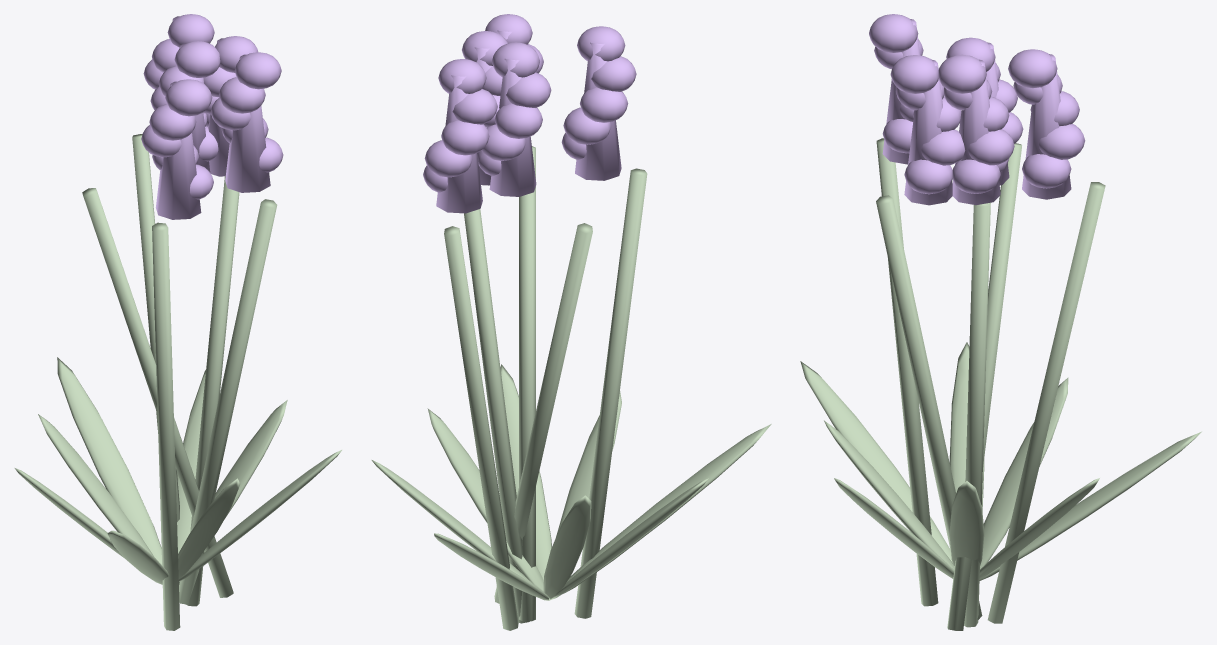
File: VCrop_Lavender_4.fbx
3 views of the same model, side by side, from view 1: azimuth 30°, elevation 25°; view 2: azimuth 150°, elevation 25°; view 3: azimuth 270°, elevation 25° (orthographic). The views are drawn at different scales.
Visible parts, largest first — view 1: VCrop_Lavender_4; view 2: VCrop_Lavender_4; view 3: VCrop_Lavender_4.
Part boxes in pixels (<box>): VCrop_Lavender_4: <box>14,14,341,630</box>; VCrop_Lavender_4: <box>371,14,771,630</box>; VCrop_Lavender_4: <box>800,14,1201,630</box>.
Size of the model in its own units: 0.228 by 0.4448 by 0.2762.
